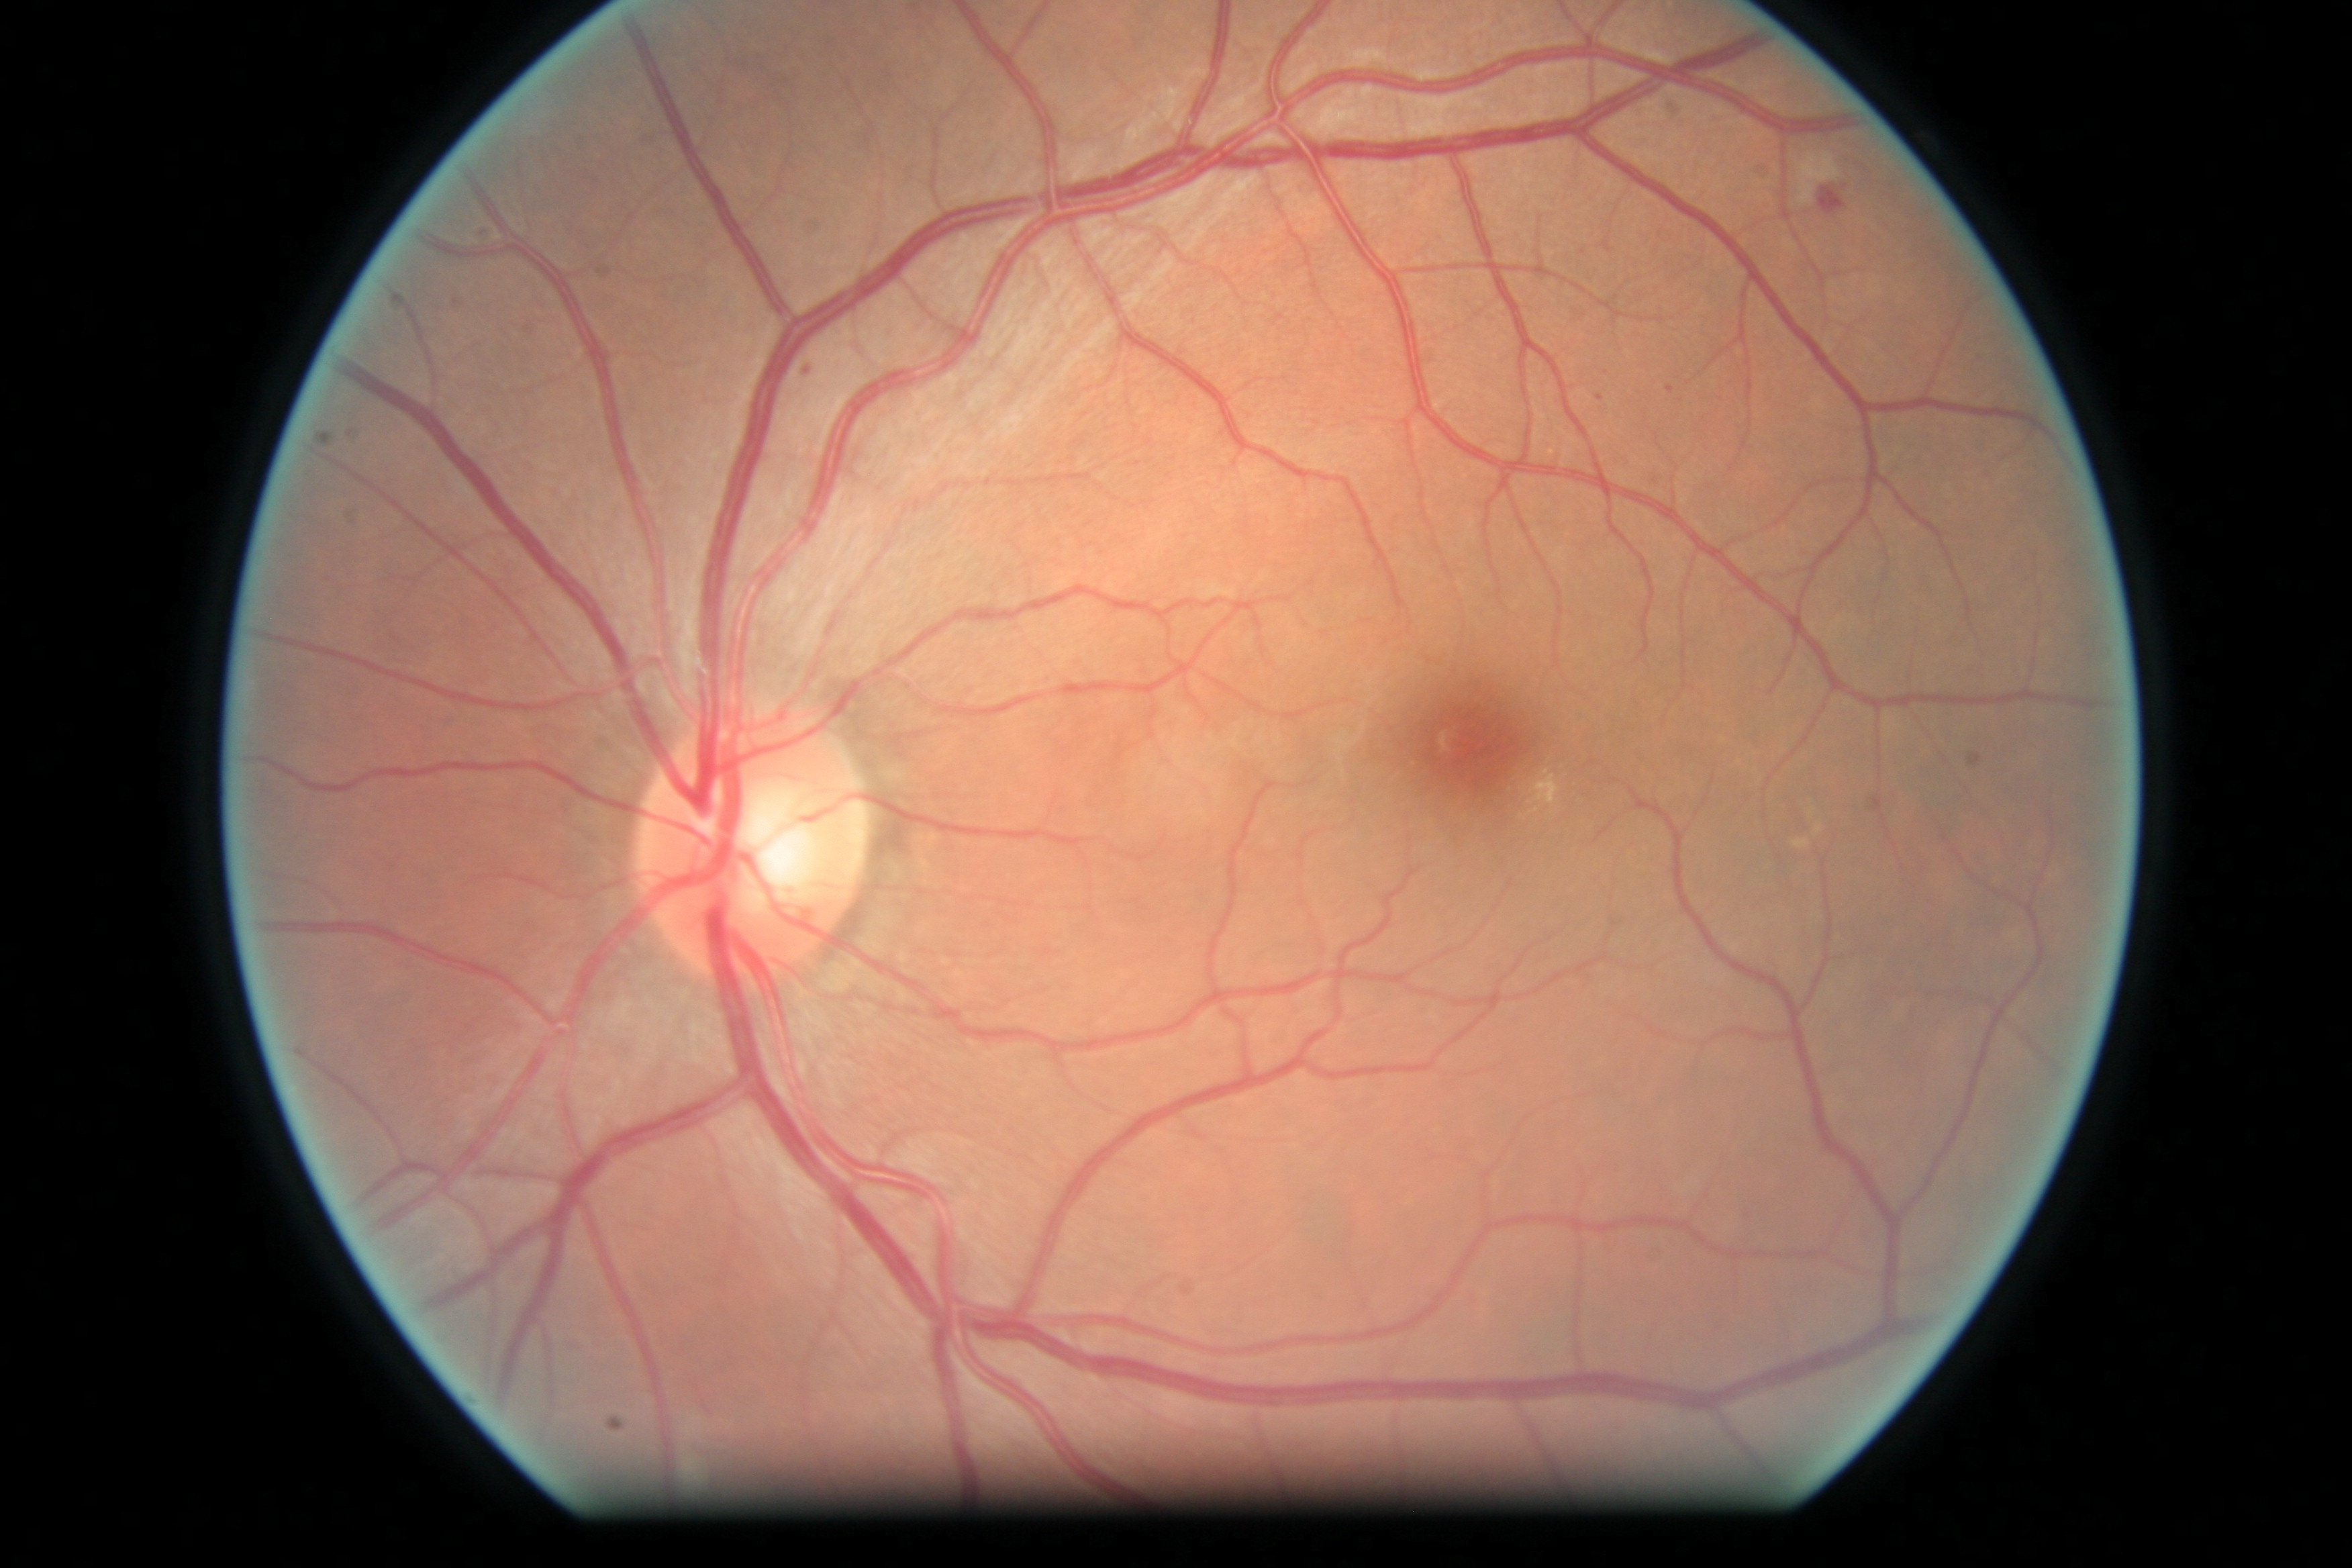Fovea: (1346, 637, 1591, 851)
OD: (621, 696, 920, 994)
